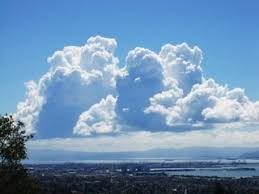Cumulus: (19, 25, 257, 144)
